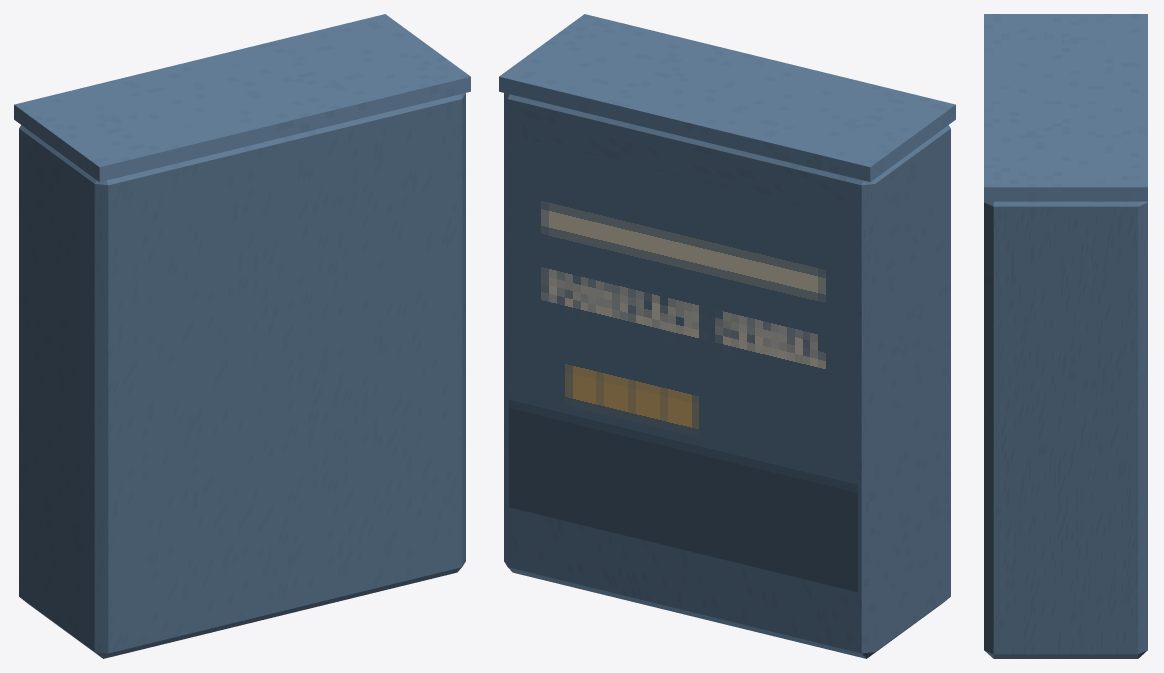
File: cereal_fp1.glb
3 views of the same model, side by side, from view 1: azimuth 30°, elevation 25°; view 2: azimuth 150°, elevation 25°; view 3: azimuth 270°, elevation 25° (orthographic). The views are drawn at different scales.
Visible parts, largest first — view 1: block_printed carton, block_sealed cereal box flaps; view 2: block_product illustration and wordmark, block_printed carton, block_sealed cereal box flaps; view 3: block_printed carton, block_sealed cereal box flaps.
Part boxes in pixels (left/top/right/bottom): block_printed carton: left=19, top=93, right=465, bottom=658; block_sealed cereal box flaps: left=14, top=14, right=470, bottom=182; block_product illustration and wordmark: left=509, top=135, right=857, bottom=592; block_printed carton: left=504, top=93, right=950, bottom=658; block_sealed cereal box flaps: left=499, top=14, right=955, bottom=182; block_printed carton: left=984, top=201, right=1147, bottom=658; block_sealed cereal box flaps: left=984, top=14, right=1147, bottom=201.
Bounding box in the file's own units: 0.0693 × 0.0887 × 0.028.
1 material, 1 textured.
